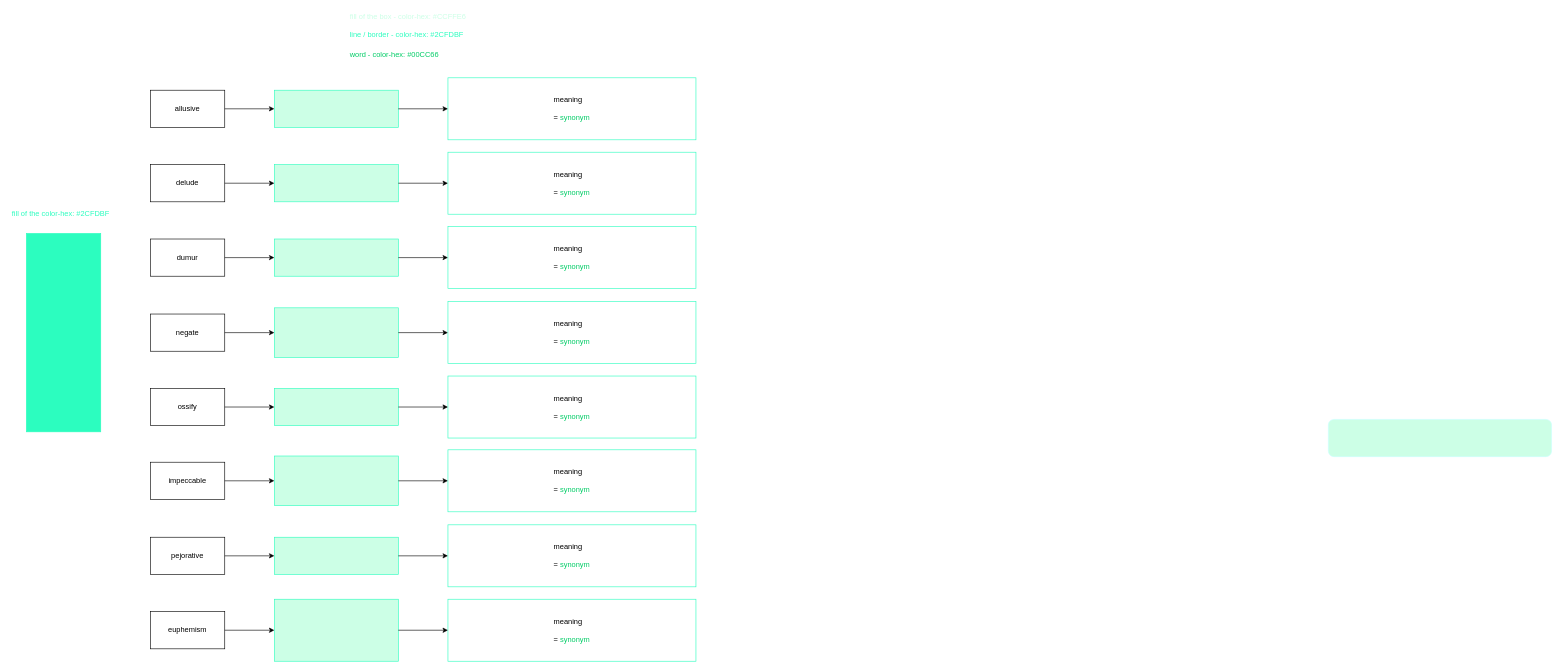
The diagram is 1562 pixels wide and 672 high, and some of its shapes have lost their labels. The box of each missing label's shape, as (x1, y1, x2, y2) in pixels:
log transformation: (1328, 419, 1552, 457)
p.22 allusive delude demur negate ossify impeccable pejorative euphemism: (26, 233, 101, 432)
